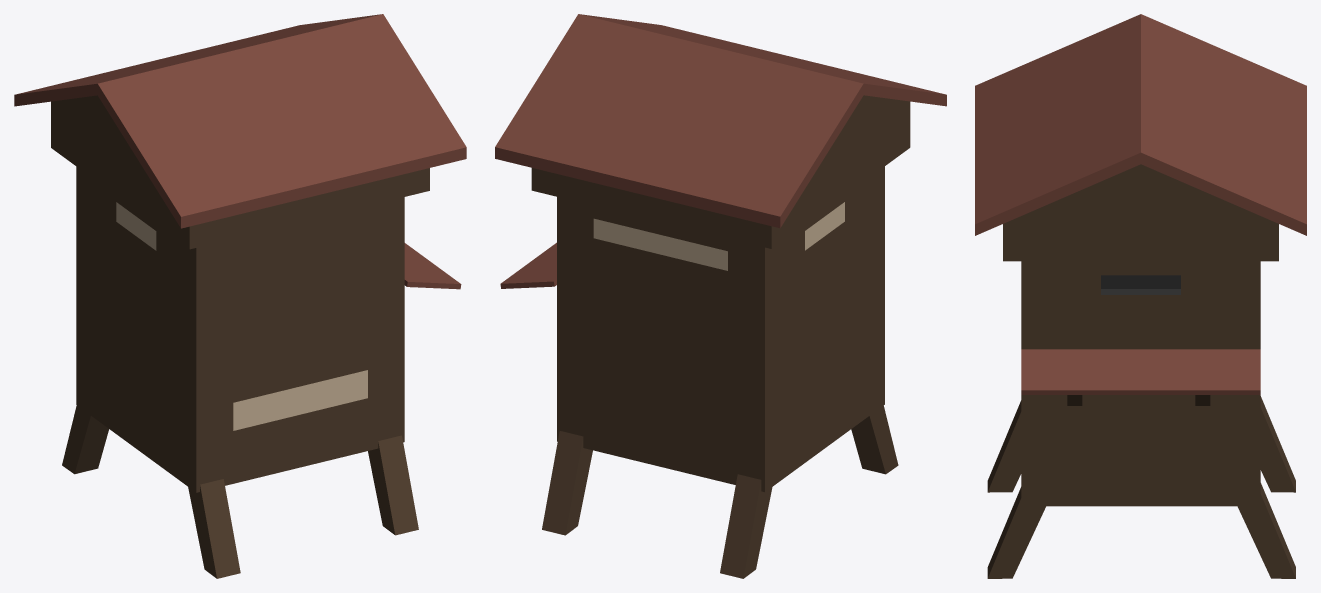
Rendered from ruche1.fbx.
The picture shows the model from 3 angles, left to right: view 1: azimuth 30°, elevation 25°; view 2: azimuth 150°, elevation 25°; view 3: azimuth 270°, elevation 25°; orthographic projection.
Parts seen in each view (by area): view 1: bloc principal, toit, bloc sup, pieds, abri; view 2: bloc principal, toit, bloc sup, pieds, abri; view 3: toit, bloc principal, bloc sup, abri, pieds.
Boxes of the visible parts, bbox=[...] form: bloc principal: bbox=[76, 166, 404, 492]; toit: bbox=[14, 14, 466, 228]; bloc sup: bbox=[51, 95, 429, 249]; pieds: bbox=[62, 405, 418, 578]; abri: bbox=[404, 243, 461, 289]; bloc principal: bbox=[557, 166, 884, 492]; toit: bbox=[495, 14, 946, 228]; bloc sup: bbox=[531, 95, 910, 248]; pieds: bbox=[542, 405, 898, 578]; abri: bbox=[500, 242, 556, 288]; toit: bbox=[975, 14, 1306, 235]; bloc principal: bbox=[1021, 261, 1260, 506]; bloc sup: bbox=[1003, 164, 1278, 261]; abri: bbox=[1021, 349, 1260, 405]; pieds: bbox=[987, 396, 1295, 578].
Size of the model in its own units: 291 by 412 by 277.
